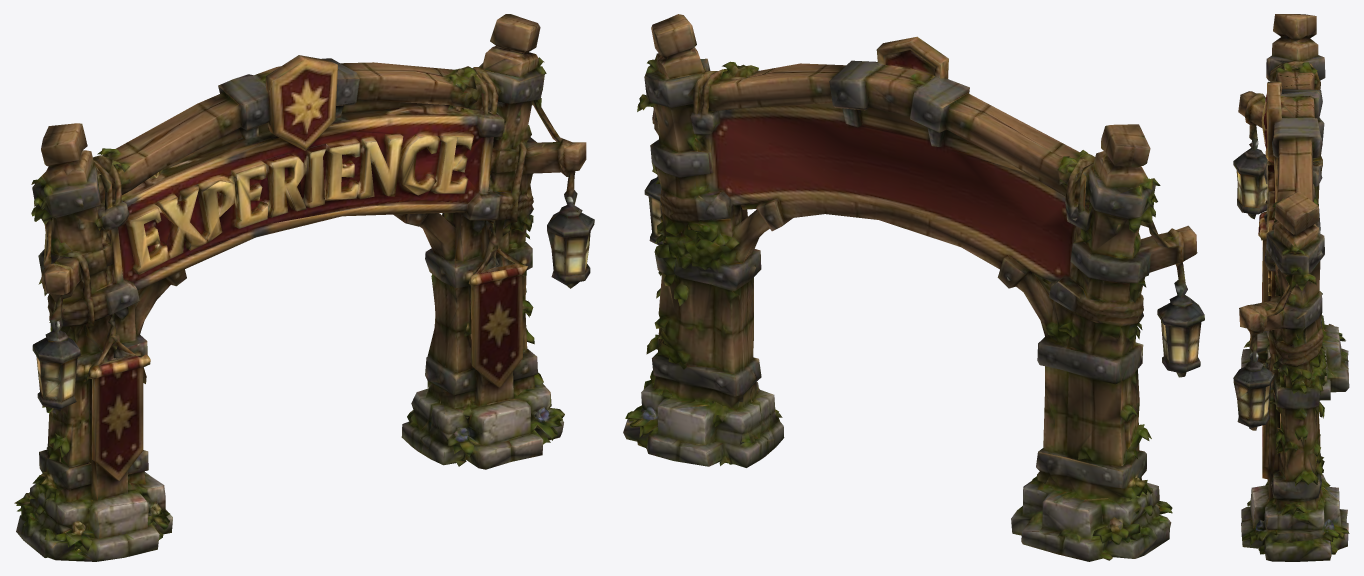
File: arch-experience.glb
The picture shows the model from 3 angles, left to right: view 1: azimuth 30°, elevation 25°; view 2: azimuth 150°, elevation 25°; view 3: azimuth 270°, elevation 25°; orthographic projection. The views are drawn at different scales.
Parts seen in each view (by area): view 1: Mesh1.0; view 2: Mesh1.0; view 3: Mesh1.0.
Part boxes in pixels (box(x1,y1,x2,y2)): Mesh1.0: box(14, 14, 594, 561); Mesh1.0: box(623, 14, 1204, 561); Mesh1.0: box(1233, 14, 1349, 561).
Bounding box in the file's own units: 1.9 × 1.44 × 0.4064.
1 material, 1 textured.
